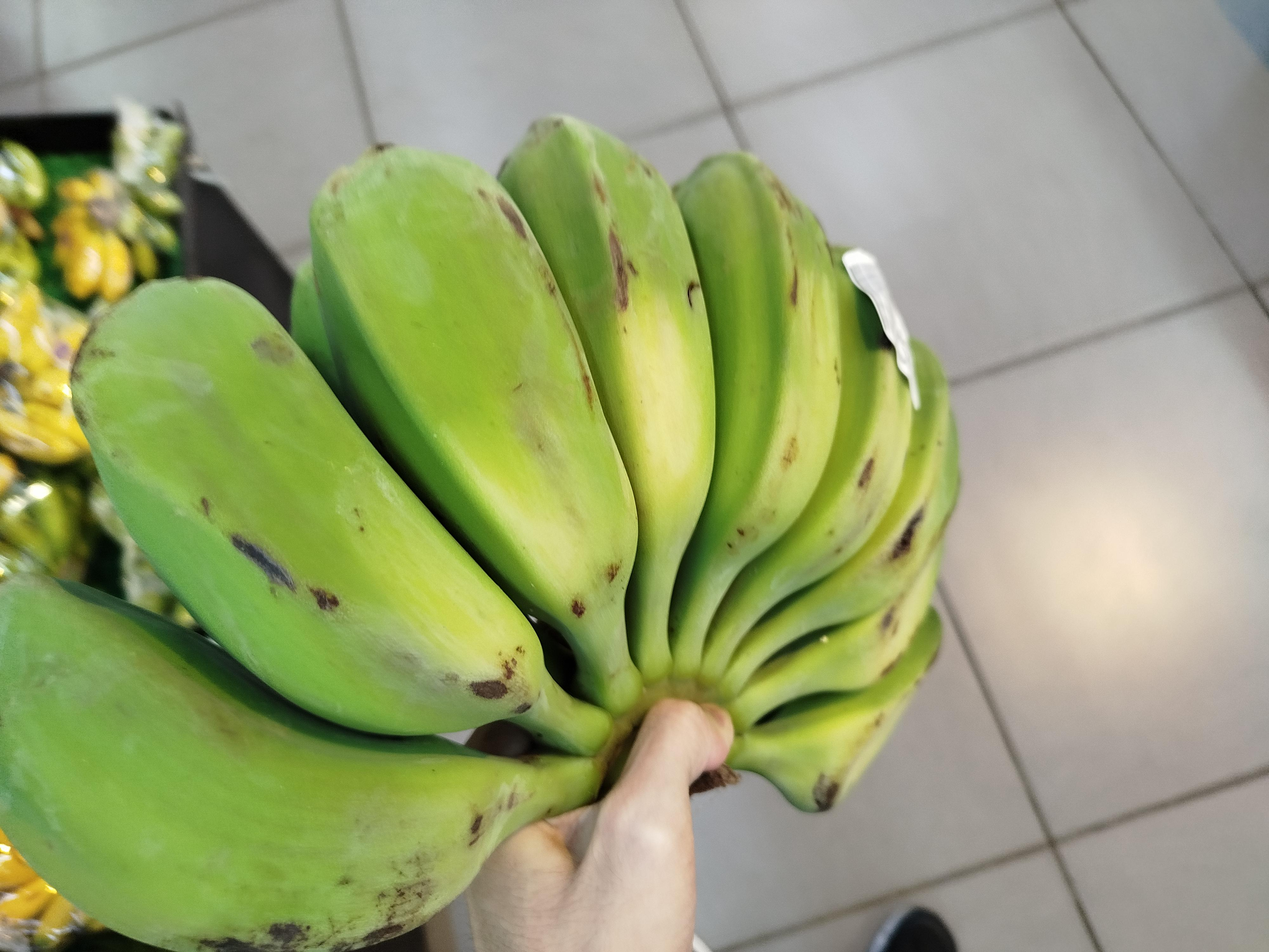underripe: (0, 116, 961, 950)
